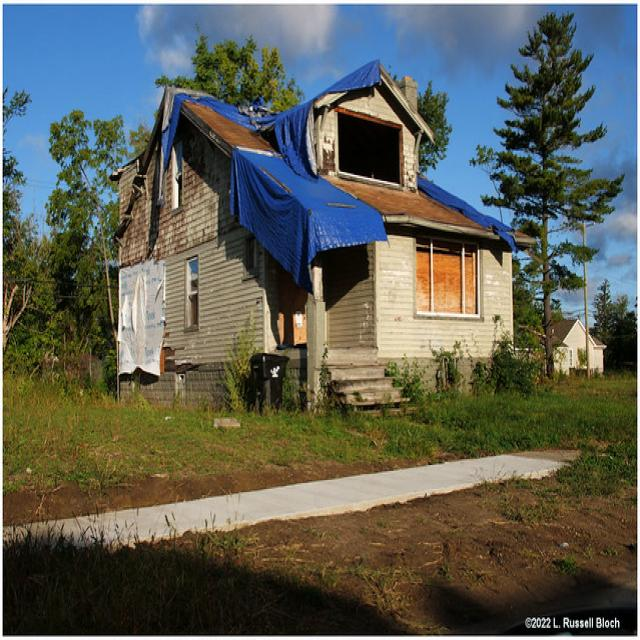Normal_building: (101, 58, 521, 414)
